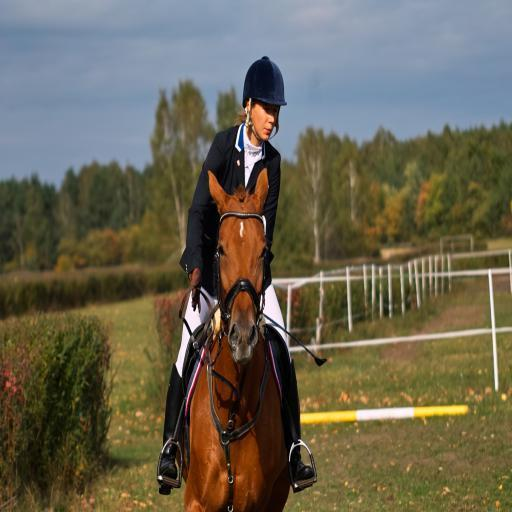horse: (174, 164, 294, 512)
